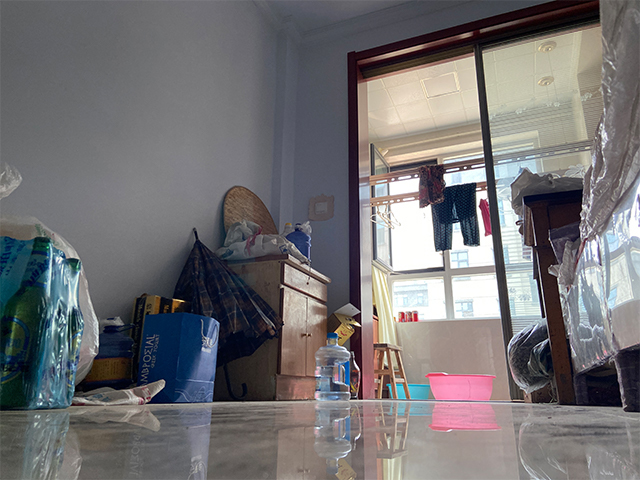cabinet: (214, 253, 332, 403)
stool: (374, 343, 411, 401)
